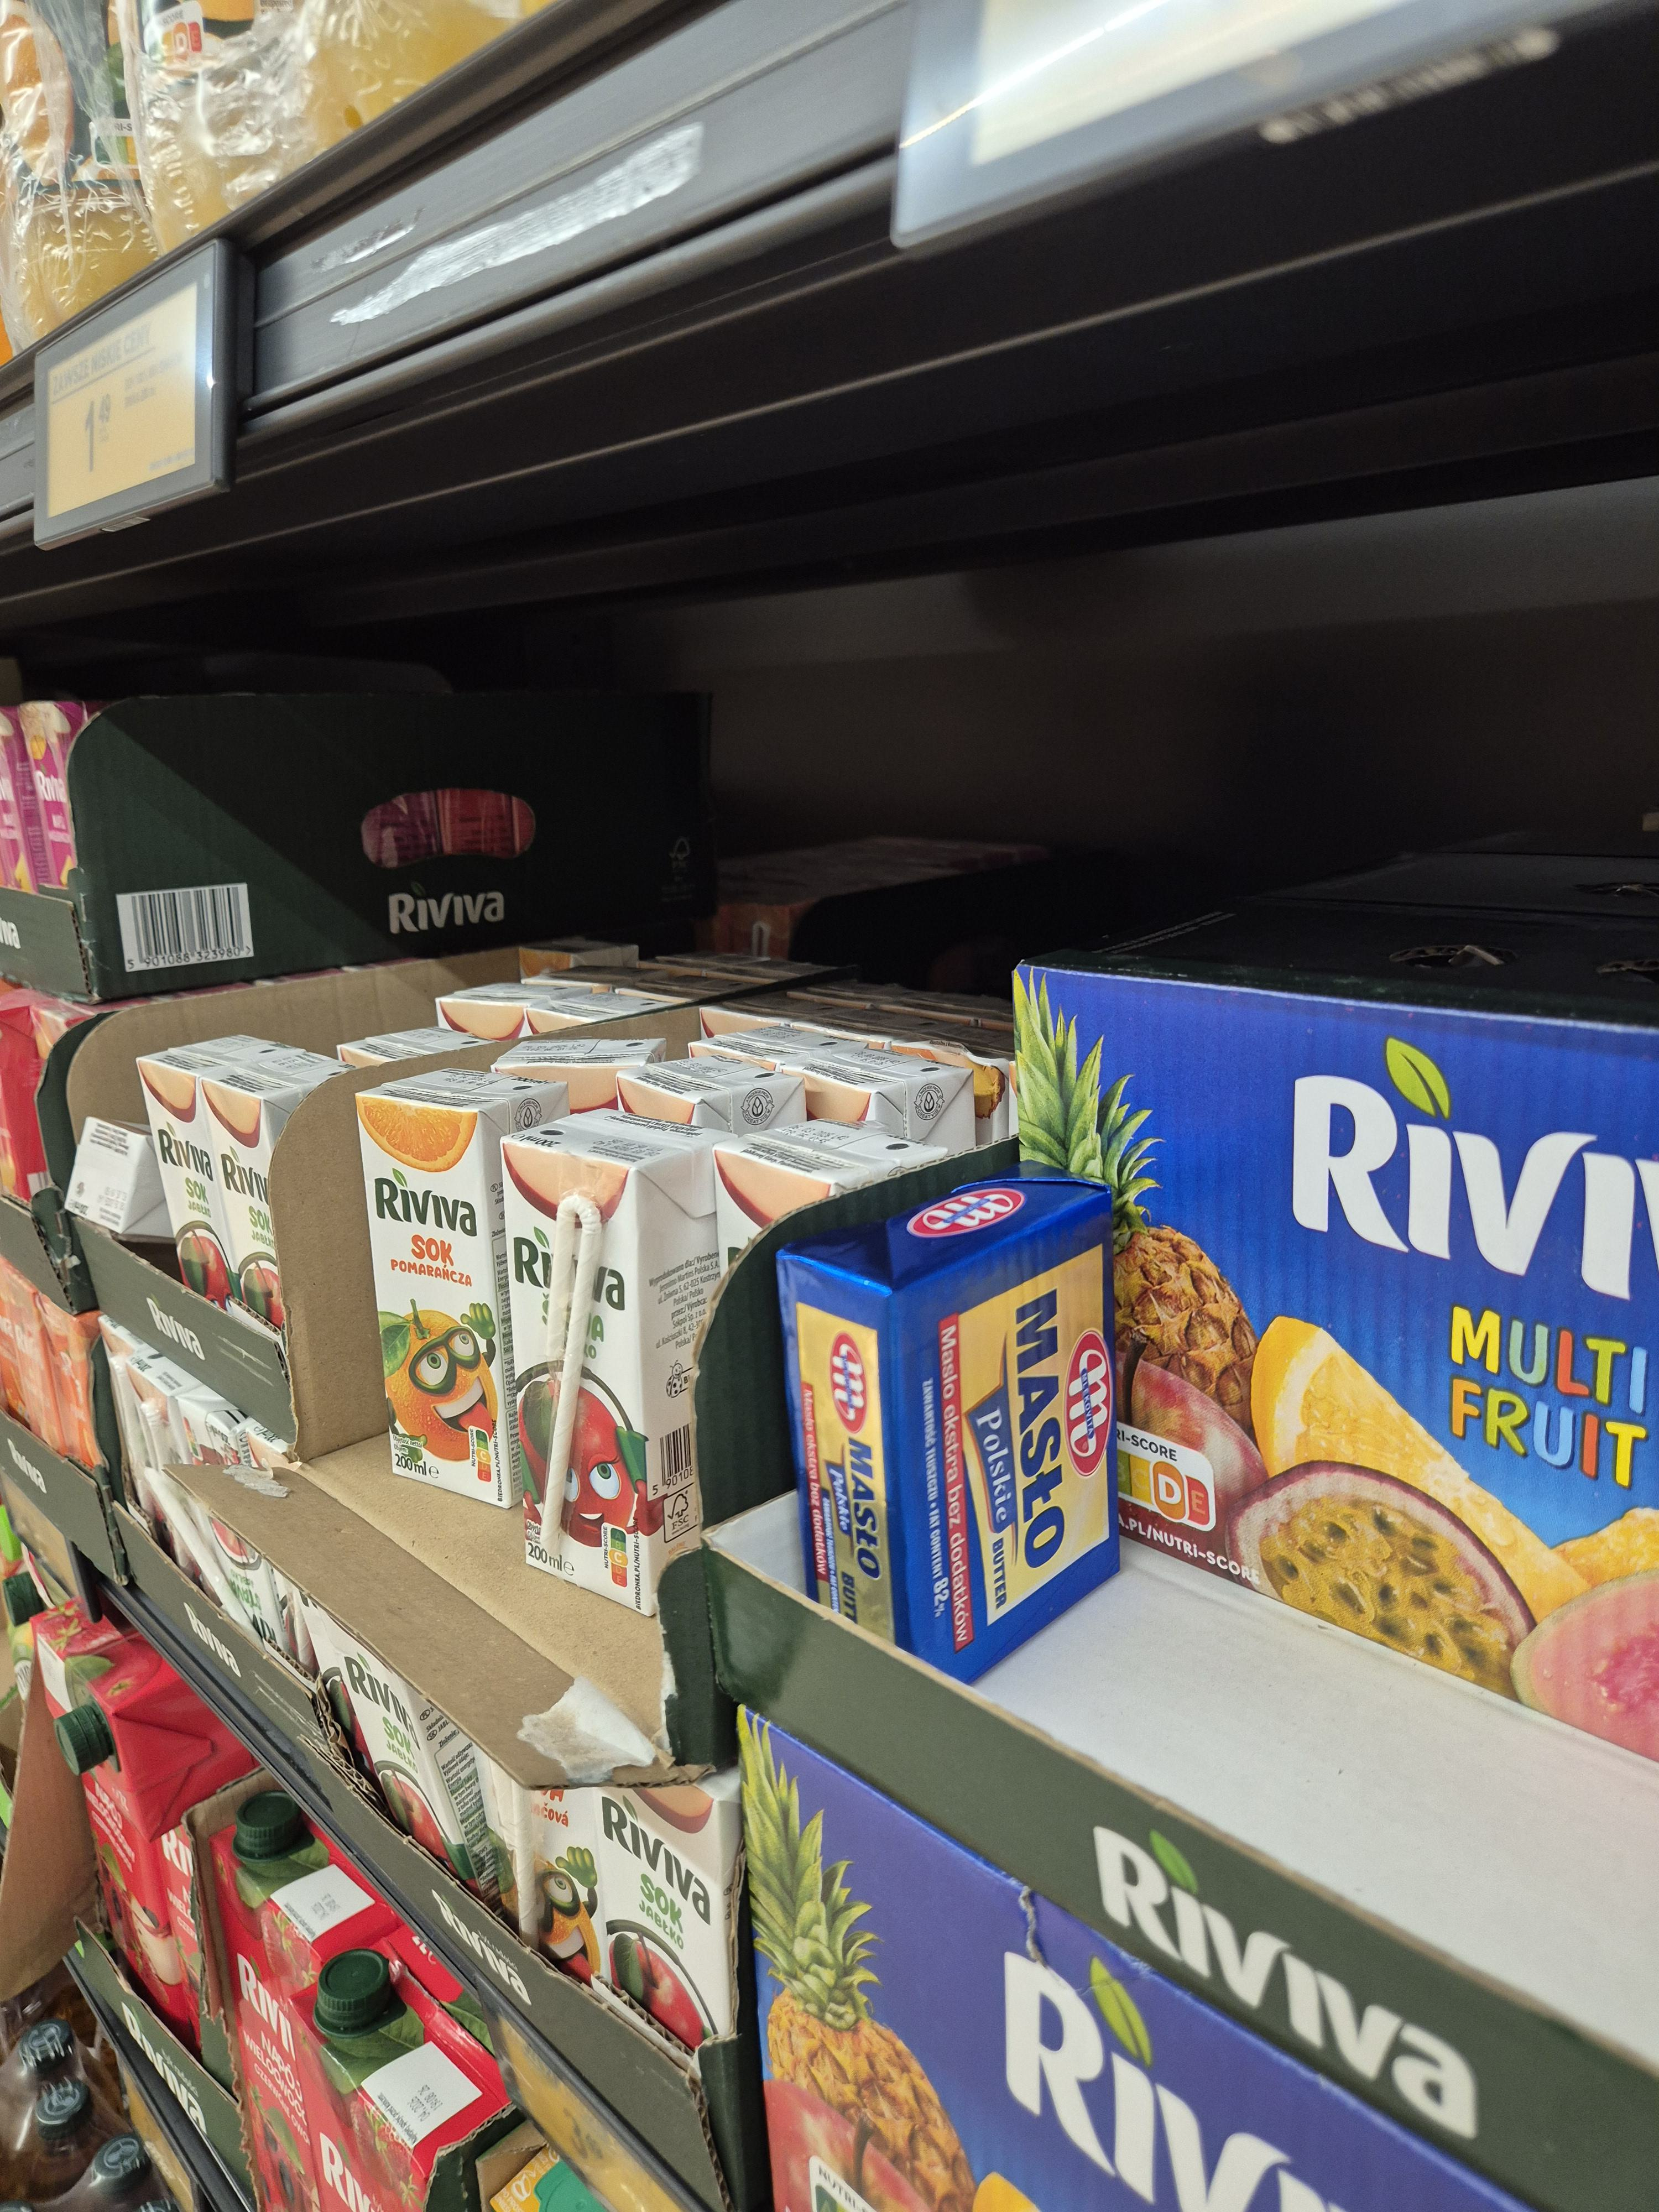Butter: (777, 1170, 1133, 1660)
